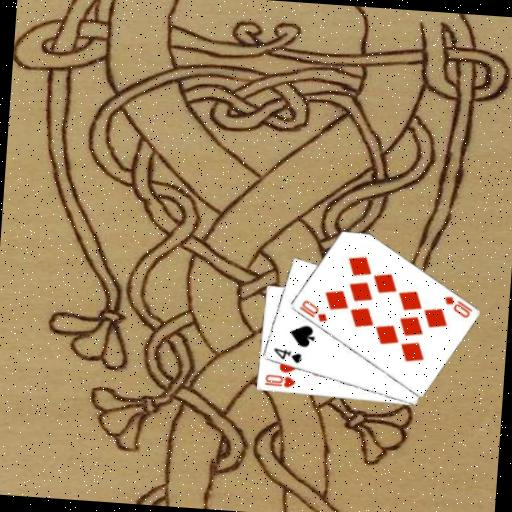10D: (295, 297, 330, 324), (440, 293, 475, 320)
10H: (261, 371, 297, 390)
4S: (269, 345, 304, 366)
